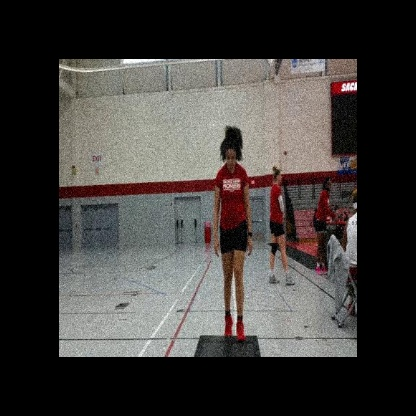lateral_flexion_normal: (211, 124, 254, 348)
stance_width_narrow: (210, 158, 253, 348)
